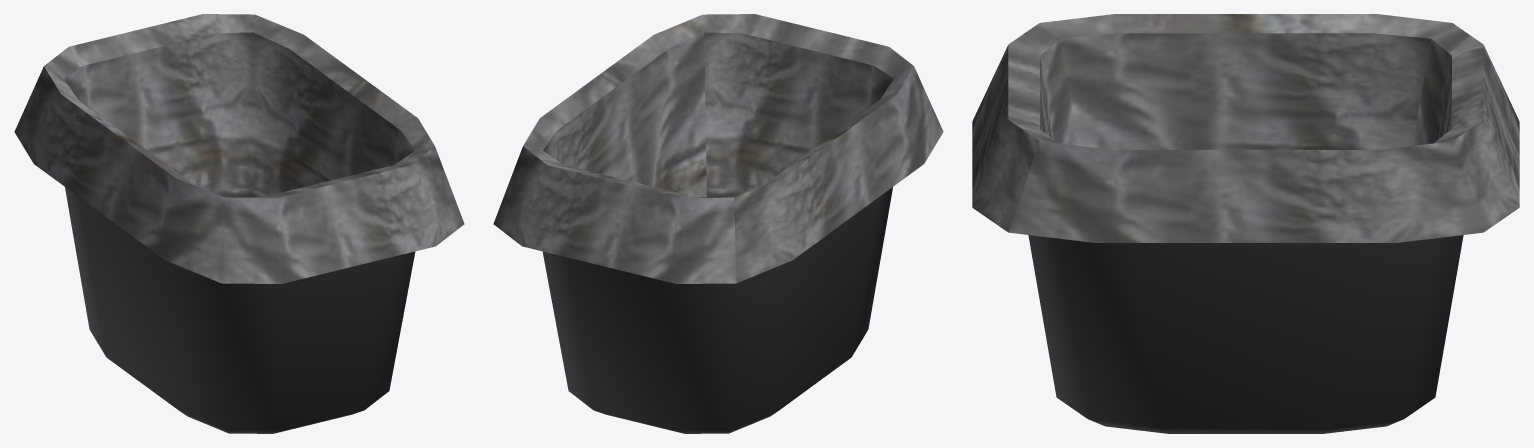
Rendered from garbage.glb.
3 views of the same model, side by side, from view 1: azimuth 30°, elevation 25°; view 2: azimuth 150°, elevation 25°; view 3: azimuth 270°, elevation 25° (orthographic). The views are drawn at different scales.
Parts seen in each view (by area): view 1: bote; view 2: bote; view 3: bote.
Boxes of the visible parts, left/top/right/bottom form: bote: left=14, top=14, right=464, bottom=433; bote: left=493, top=14, right=943, bottom=433; bote: left=972, top=14, right=1519, bottom=433.
Bounding box in the file's own units: 0.8737 × 0.7901 × 1.29.
Materials: 2 (1 with a texture image).
